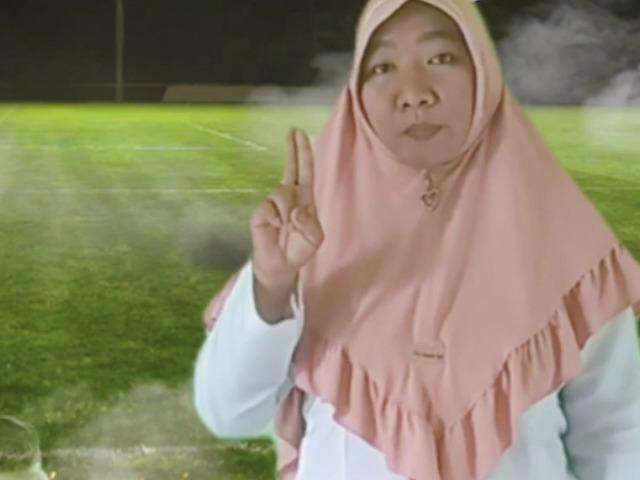U: (248, 115, 326, 280)
